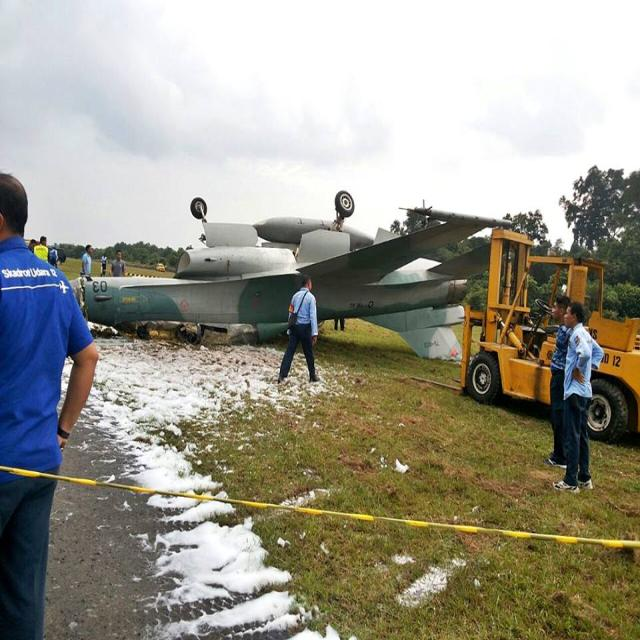MIL_Plane: (68, 189, 512, 367)
